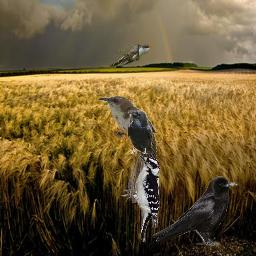Crow: (152, 176, 238, 246), (127, 110, 153, 154)
Cuckoo: (98, 95, 157, 203), (108, 44, 152, 67)
Woodpecker: (120, 154, 161, 242)
